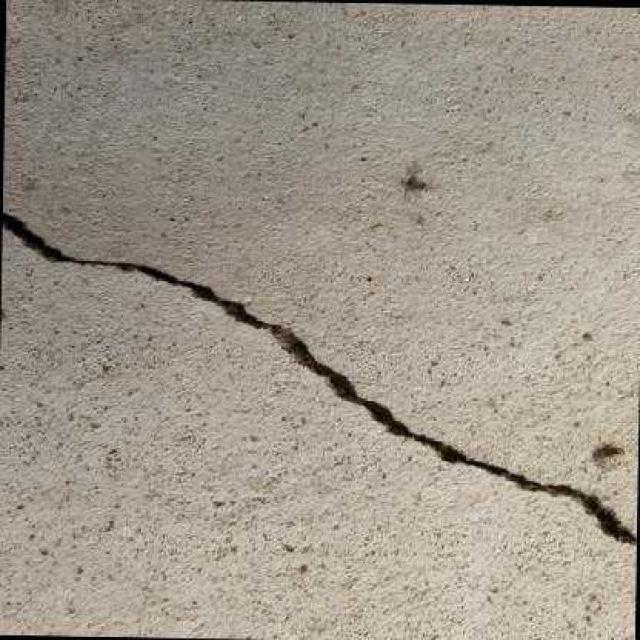D00: (2, 210, 636, 545)
